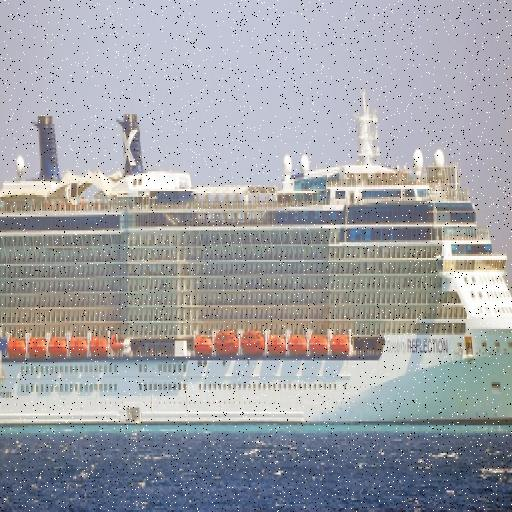cruises: (1, 66, 512, 448)
